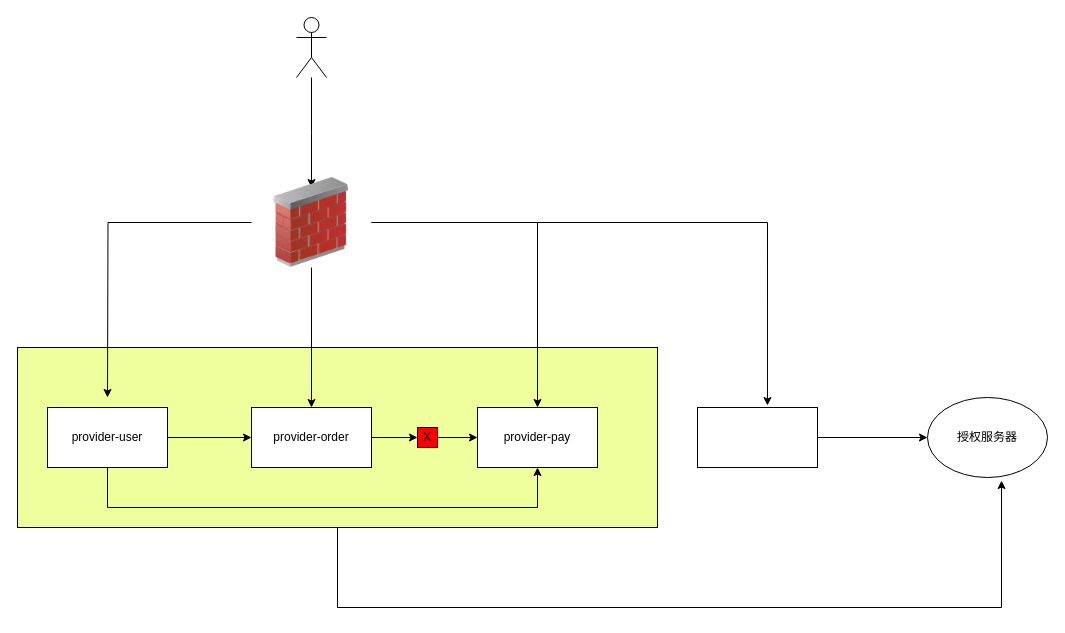
Some shapes in this 1065 by 633 pixel diagram are drawn without their labels. The box of each missing label's shape, as (x1, y1, x2, y2) in pixels:
Actor: (296, 16, 326, 78)
SSO server: (696, 406, 818, 468)
